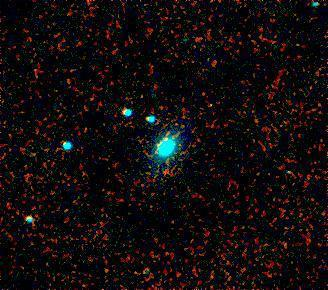star: (272, 155, 302, 185)
